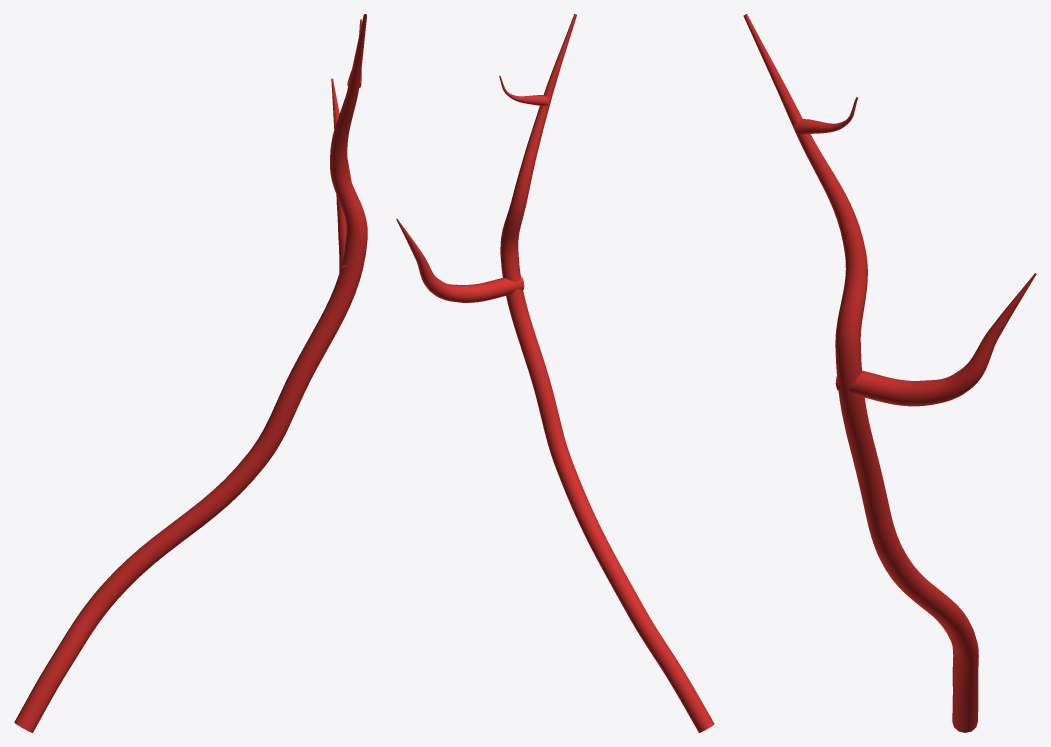
The model's file is circulatorio-anterior-deep-temporal-artery-l.glb.
3 views of the same model, side by side, from view 1: azimuth 30°, elevation 25°; view 2: azimuth 150°, elevation 25°; view 3: azimuth 270°, elevation 25° (orthographic). The views are drawn at different scales.
Visible parts, largest first — view 1: Anterior deep temporal artery.l; view 2: Anterior deep temporal artery.l; view 3: Anterior deep temporal artery.l.
Boxes of the visible parts, left/top/right/bottom form: Anterior deep temporal artery.l: left=14, top=14, right=367, bottom=732; Anterior deep temporal artery.l: left=396, top=14, right=714, bottom=732; Anterior deep temporal artery.l: left=743, top=14, right=1036, bottom=732.
Size of the model in its own units: 0.0222 by 0.0443 by 0.0137.
